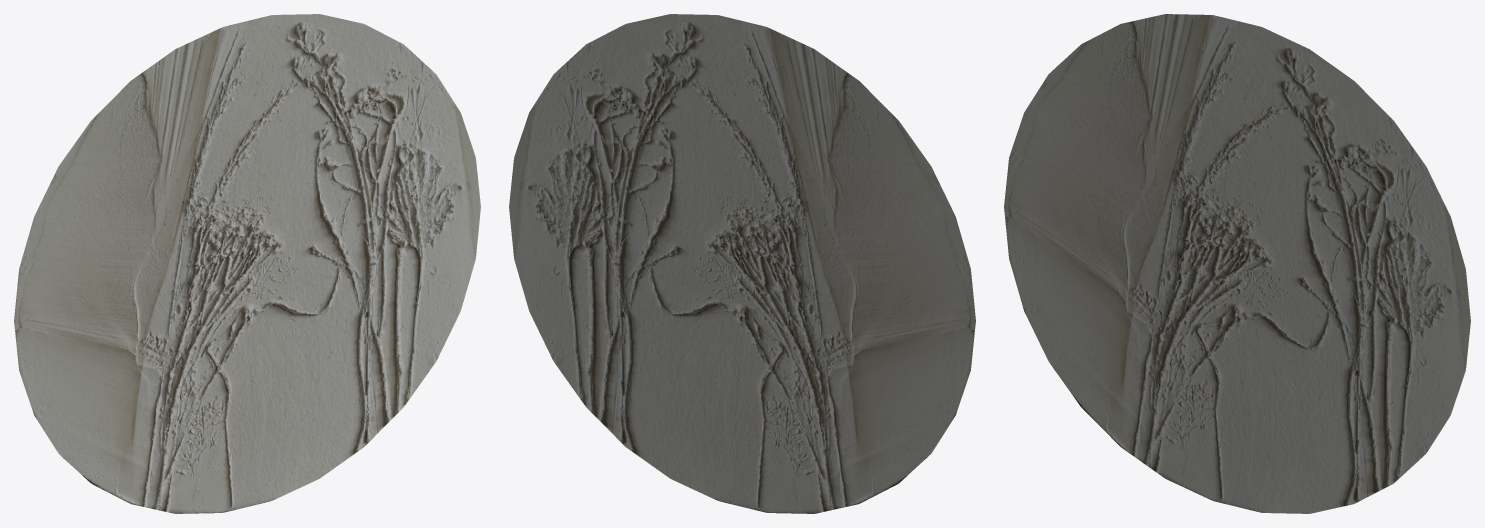
Rendered from yav.gltf.
3 views of the same model, side by side, from view 1: azimuth 30°, elevation 25°; view 2: azimuth 150°, elevation 25°; view 3: azimuth 330°, elevation 25° (orthographic).
Parts seen in each view (by area): view 1: Cylinder001; view 2: Cylinder001; view 3: Cylinder001.
Part boxes in pixels (left/top/right/bottom): Cylinder001: left=14, top=14, right=480, bottom=513; Cylinder001: left=509, top=14, right=975, bottom=513; Cylinder001: left=1004, top=14, right=1470, bottom=513.
Bounding box in the file's own units: 0.6 × 0.5967 × 1.32e-16.
Materials: 1 (1 with a texture image).
